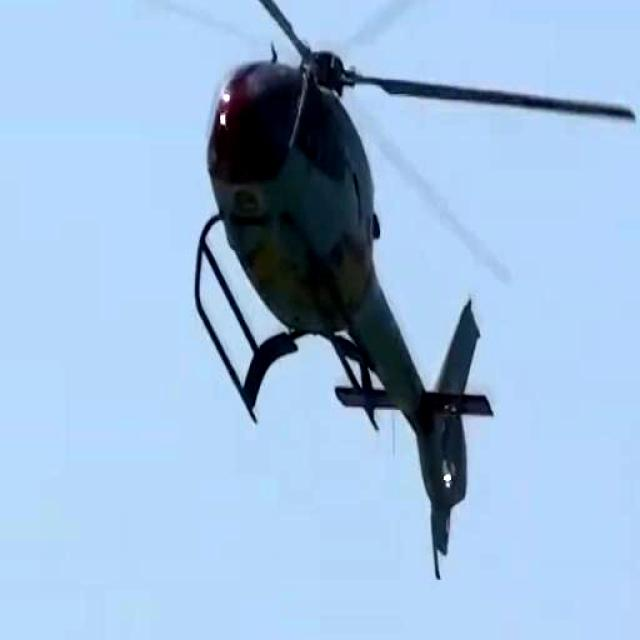drone: (99, 0, 634, 600)
